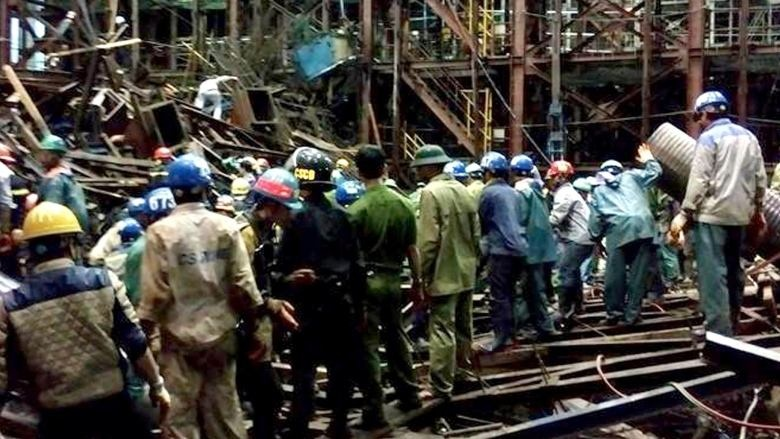blue: (252, 169, 301, 224), (167, 153, 210, 202), (690, 87, 729, 129), (412, 142, 447, 180), (142, 189, 177, 220), (37, 132, 64, 164), (480, 152, 508, 180), (508, 152, 534, 181), (118, 218, 144, 244), (598, 157, 624, 178), (125, 197, 147, 219), (448, 160, 468, 183)
none: (352, 143, 385, 185)
red: (547, 158, 574, 186)
yellow: (24, 200, 78, 261)
